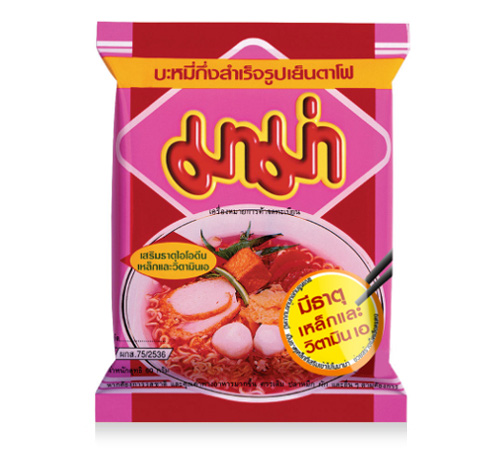Snack: (87, 16, 416, 431)
